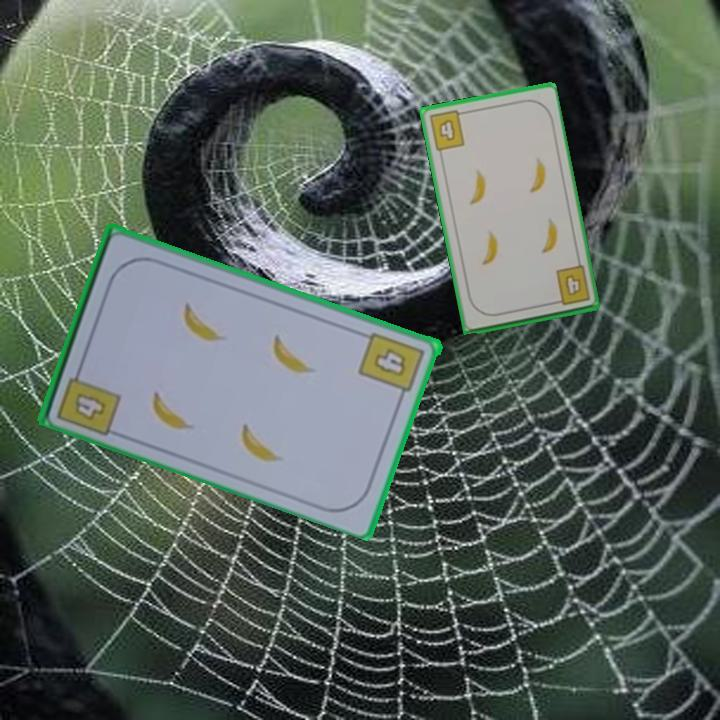4b: (356, 328, 428, 404), (425, 107, 469, 154), (549, 262, 593, 308), (72, 392, 109, 424)
